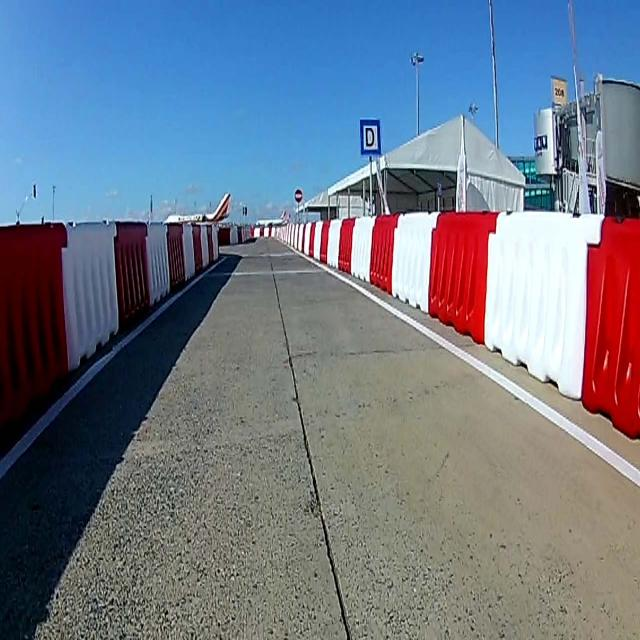durak: (359, 118, 382, 158)
girisyok: (295, 185, 303, 203)
